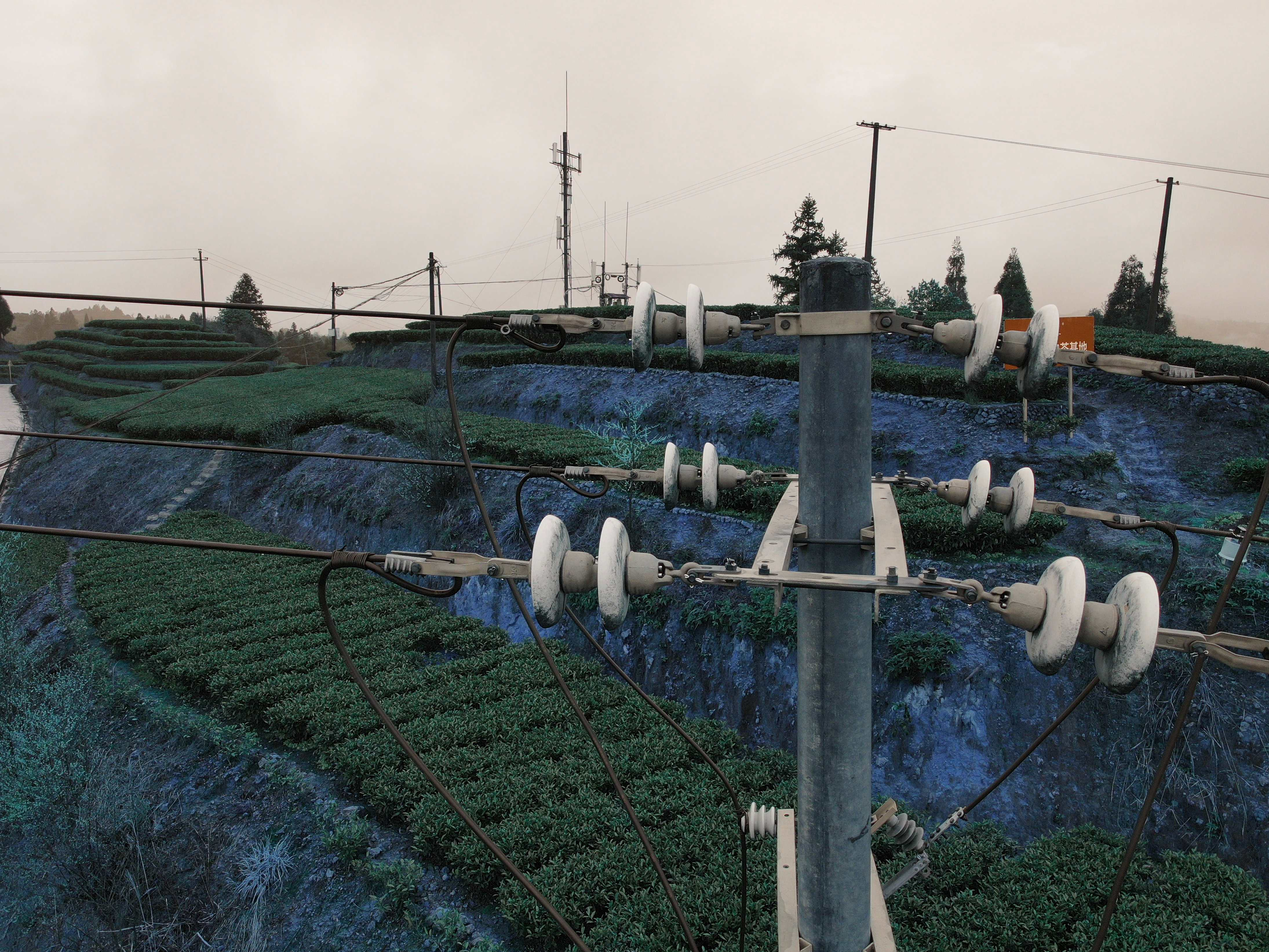severe_soiling_no_discharge_whole: (989, 557, 1166, 698), (524, 509, 676, 635), (935, 292, 1064, 401), (624, 275, 749, 375), (938, 459, 1043, 544), (656, 439, 746, 513)
